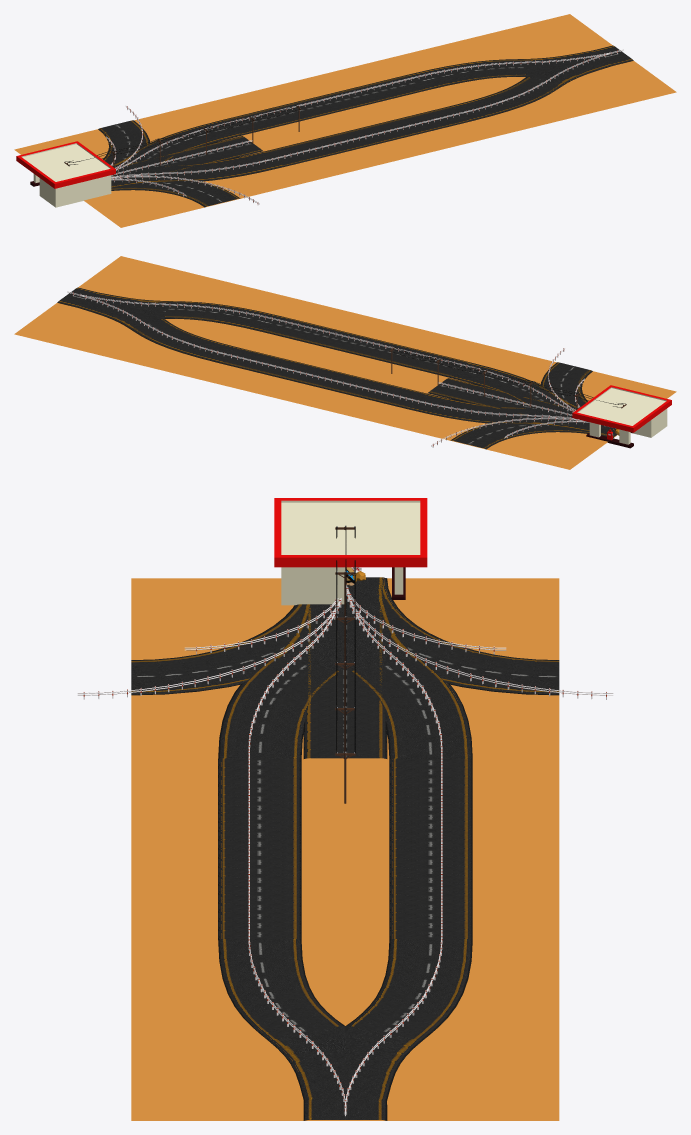
Rendered from SM_Desert.fbx.
The picture shows the model from 3 angles, top to bottom: view 1: azimuth 30°, elevation 25°; view 2: azimuth 150°, elevation 25°; view 3: azimuth 270°, elevation 25°; orthographic projection. The views are drawn at different scales.
Parts seen in each view (by area): view 1: SM_SandTileDoubleLine, SM_RoadSplit, SM_SandTile, SM_GasStation, SM_RoadTile, SM_RoadTurnRightLong, SM_RoadTurnLeftLong, SM_BarrierDoubleLineRight, SM_BarrierDoubleLineLeft, SM_ElecPoles, SM_RopeBarrierCurveRightLong, SM_RoadBarrier; view 2: SM_SandTileDoubleLine, SM_RoadSplit, SM_SandTile, SM_GasStation, SM_RoadTile, SM_RoadTurnLeftLong, SM_RoadTurnRightLong, SM_BarrierDoubleLineLeft, SM_BarrierDoubleLineRight, SM_ElecPoles, SM_RopeBarrierCurveLeftLong, SM_RoadBarrier; view 3: SM_SandTileDoubleLine, SM_RoadSplit, SM_SandTile, SM_GasStation, SM_RoadTile, SM_RoadTurnRightLong, SM_RoadTurnLeftLong, SM_ElecPoles, SM_BarrierDoubleLineLeft, SM_BarrierDoubleLineRight, SM_RopeBarrierCurveLeftLong, SM_RopeBarrierCurveRightLong.
Boxes of the visible parts, x1,y1,x2,y2 form: SM_SandTileDoubleLine: (15, 14, 676, 227); SM_RoadSplit: (111, 45, 633, 187); SM_SandTile: (14, 104, 305, 227); SM_GasStation: (16, 141, 115, 207); SM_RoadTile: (111, 136, 262, 185); SM_RoadTurnRightLong: (111, 180, 240, 207); SM_RoadTurnLeftLong: (98, 120, 150, 164); SM_BarrierDoubleLineRight: (111, 49, 623, 178); SM_BarrierDoubleLineLeft: (116, 49, 623, 171); SM_ElecPoles: (64, 105, 301, 175); SM_RopeBarrierCurveRightLong: (111, 175, 259, 205); SM_RoadBarrier: (111, 140, 252, 175); SM_SandTileDoubleLine: (14, 256, 675, 469); SM_RoadSplit: (57, 287, 615, 435); SM_SandTile: (386, 346, 676, 469); SM_GasStation: (572, 385, 671, 448); SM_RoadTile: (428, 378, 615, 434); SM_RoadTurnLeftLong: (450, 422, 616, 449); SM_RoadTurnRightLong: (541, 362, 617, 436); SM_BarrierDoubleLineLeft: (67, 291, 584, 421); SM_BarrierDoubleLineRight: (67, 291, 574, 412); SM_ElecPoles: (389, 347, 626, 409); SM_RopeBarrierCurveLeftLong: (431, 417, 584, 447); SM_RoadBarrier: (438, 382, 572, 416); SM_SandTileDoubleLine: (131, 578, 559, 1120); SM_RoadSplit: (218, 578, 472, 1120); SM_SandTile: (131, 578, 559, 759); SM_GasStation: (274, 498, 427, 605); SM_RoadTile: (303, 578, 387, 758); SM_RoadTurnRightLong: (131, 577, 382, 695); SM_RoadTurnLeftLong: (347, 577, 559, 695); SM_ElecPoles: (335, 525, 355, 803); SM_BarrierDoubleLineLeft: (344, 587, 442, 1116); SM_BarrierDoubleLineRight: (248, 598, 345, 1115); SM_RopeBarrierCurveLeftLong: (346, 587, 613, 699); SM_RopeBarrierCurveRightLong: (77, 598, 340, 699).
Size of what is drawn, in the model's own units: 5003 by 12664 by 663.
3 materials, 2 textured.
